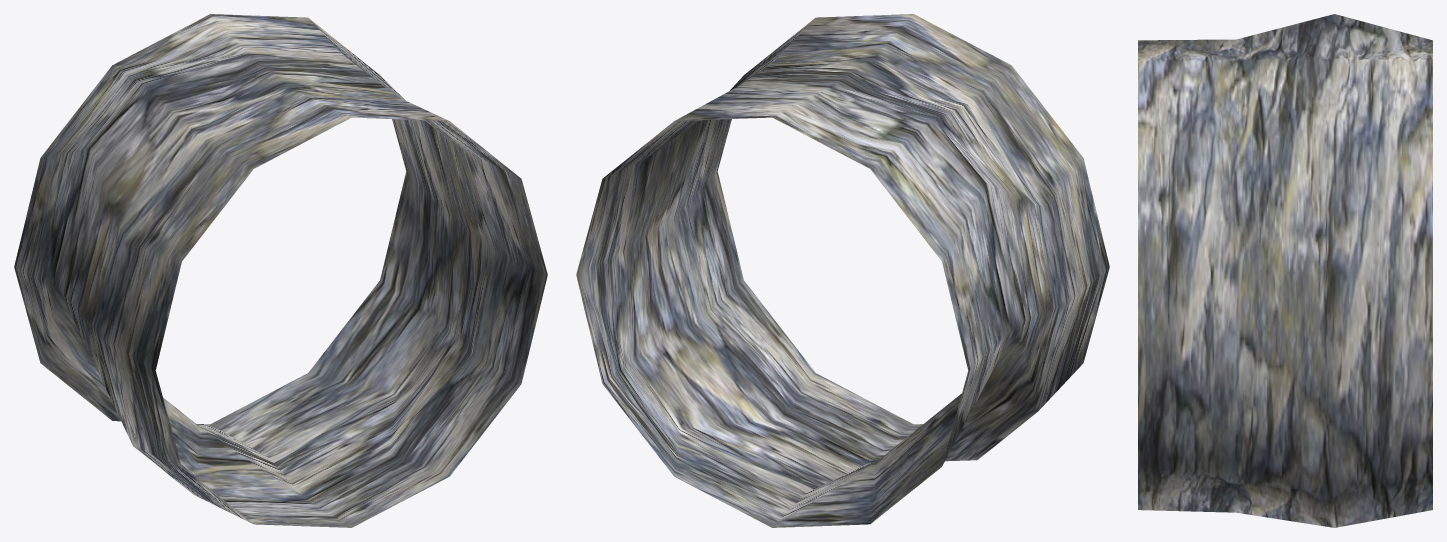
The model's file is Tunnel.FBX.
The picture shows the model from 3 angles, left to right: view 1: azimuth 30°, elevation 25°; view 2: azimuth 150°, elevation 25°; view 3: azimuth 270°, elevation 25°; orthographic projection. The views are drawn at different scales.
Visible parts, largest first — view 1: Cylinder03; view 2: Cylinder03; view 3: Cylinder03.
Part boxes in pixels (left/top/right/bottom): Cylinder03: left=14, top=14, right=547, bottom=527; Cylinder03: left=576, top=14, right=1109, bottom=527; Cylinder03: left=1138, top=14, right=1432, bottom=527.
Size of the model in its own units: 4852 by 4852 by 3000.
Materials: 1 (1 with a texture image).
